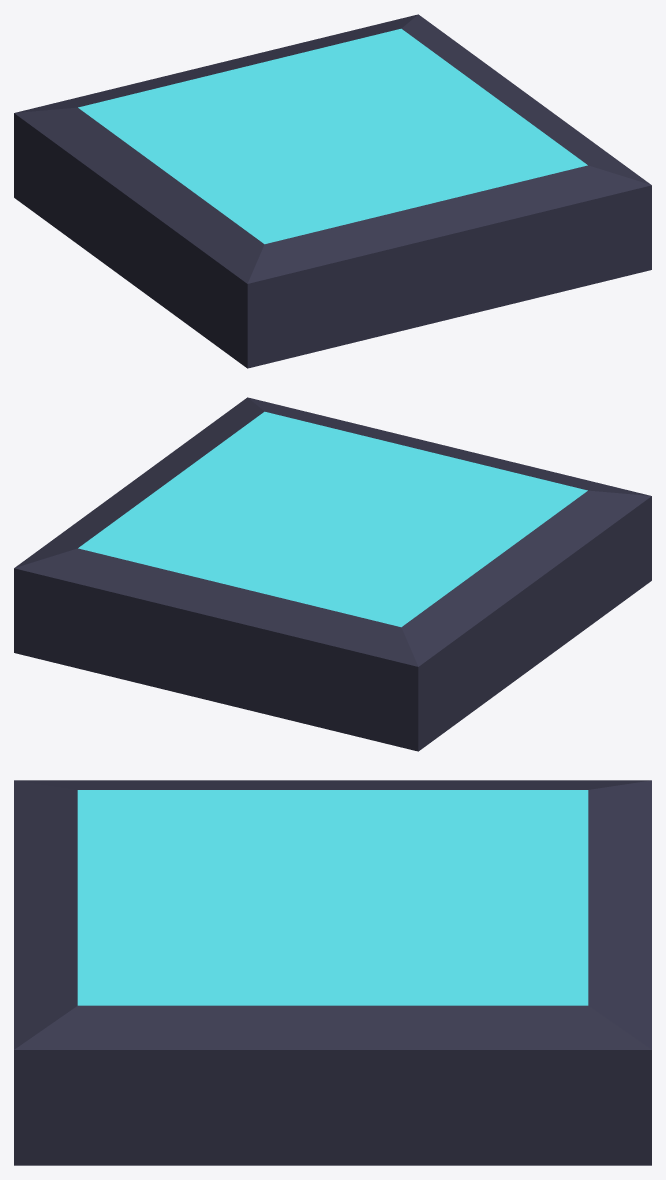
The model's file is FallingTile.FBX.
The picture shows the model from 3 angles, top to bottom: view 1: azimuth 30°, elevation 25°; view 2: azimuth 150°, elevation 25°; view 3: azimuth 270°, elevation 25°; orthographic projection. The views are drawn at different scales.
Visible parts, largest first — view 1: Box001; view 2: Box001; view 3: Box001.
Part boxes in pixels (x1,y1,x2,y2): Box001: (14,14,651,368); Box001: (14,397,651,751); Box001: (14,780,651,1165).
Bounding box in the file's own units: 50 × 50 × 13.
1 material, 1 textured.
